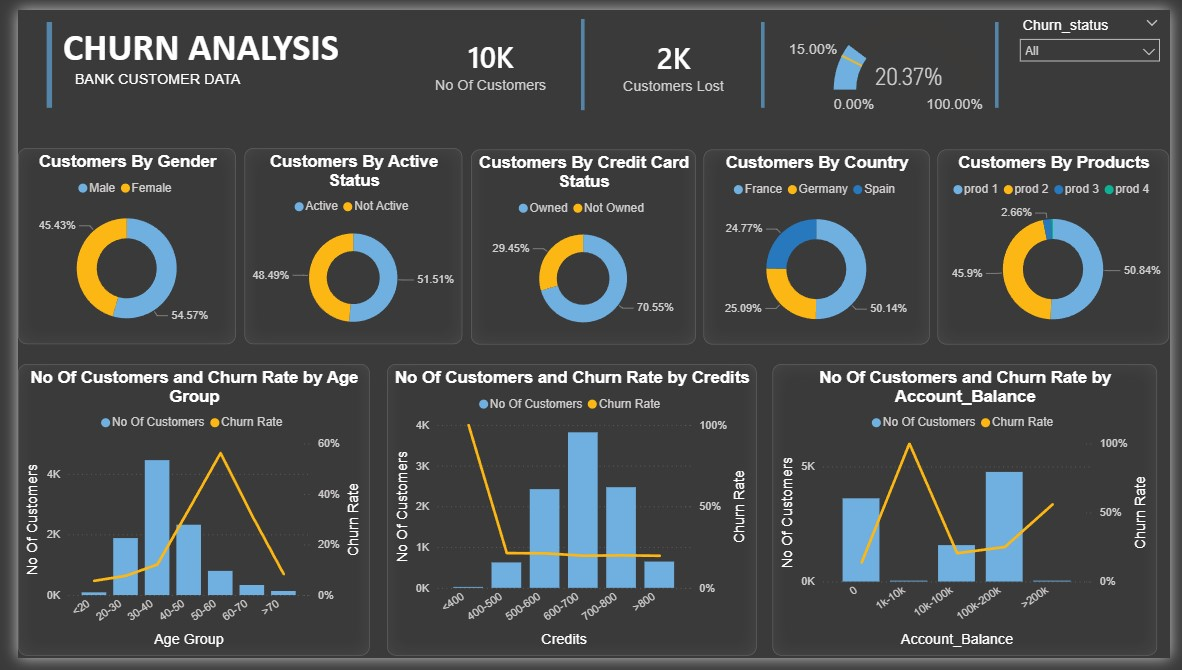

Layout of this report page (visuals, bound fields, positions):
{"tool":"powerbi","page":{"name":"Page 1","canvas":[1280,720],"ordinal":0},"visuals":[{"type":"cardVisual","fields":{"Data":["Customer Data.Customers Lost"]},"box":[628.4,1.5,198.4,119.6],"z":0},{"type":"donutChart","title":"Customers By Gender","fields":{"Y":["CountNonNull(Customer Data.customer_id)"],"Category":["Customer Data.gender"]},"box":[0,152.9,242.3,218],"z":1000},{"type":"donutChart","title":"Customers By Active Status","fields":{"Y":["CountNonNull(Customer Data.customer_id)"],"Category":["Customer Data.Activity_status"]},"box":[251.4,152.9,242.3,218],"z":2000},{"type":"donutChart","title":"Customers By Credit Card Status","fields":{"Y":["CountNonNull(Customer Data.customer_id)"],"Category":["Customer Data.credit_card"]},"box":[502.7,154.4,249.8,216.5],"z":3000},{"type":"donutChart","title":"Customers By Country","fields":{"Y":["CountNonNull(Customer Data.customer_id)"],"Category":["Customer Data.country"]},"box":[761.6,154.4,251.4,216.5],"z":4000},{"type":"donutChart","title":"Customers By Products","fields":{"Y":["CountNonNull(Customer Data.customer_id)"],"Category":["Customer Data.Products"]},"box":[1022.1,154.4,257.4,216.5],"z":5000},{"type":"lineStackedColumnComboChart","fields":{"Y2":["Customer Data.Churn Rate"],"Y":["Customer Data.customers"],"Category":["Age Groups.Age Group"]},"box":[0,393.7,390.7,324],"z":6000},{"type":"lineStackedColumnComboChart","fields":{"Y2":["Customer Data.Churn Rate"],"Y":["Customer Data.customers"],"Category":["Credit Score.Credits"]},"box":[409.6,393.7,410.3,324],"z":7000},{"type":"lineStackedColumnComboChart","fields":{"Y":["Customer Data.customers"],"Category":["Account Balance Groups.Account_Balance"],"Y2":["Customer Data.Churn Rate"]},"box":[838.9,393.7,427,324],"z":8000},{"type":"slicer","fields":{"Values":["Customer Data.Churn_status"]},"box":[1103.9,1.5,175.6,119.6],"z":9000},{"type":"cardVisual","fields":{"Data":["Customer Data.No Of Customers"]},"box":[422.5,0,205.9,121.1],"z":10000},{"type":"gauge","fields":{"MinValue":["Min(Customer Data.Min Churnrate)"],"MaxValue":["Max(Customer Data.Max Churnrate)"],"Y":["Customer Data.Churn Rate"],"TargetValue":["Min(Customer Data.Target Churnrate)"]},"box":[820.7,0,286.2,121.1],"z":11000},{"type":"textbox","box":[45.4,10.6,372.5,68.1],"z":12000},{"type":"shape","box":[578.4,10.6,98.4,101.5],"z":13000},{"type":"shape","box":[778.3,13.6,98.4,95.4],"z":14000},{"type":"shape","box":[1038.7,13.6,98.4,95.4],"z":15000},{"type":"shape","box":[0,13.6,69.7,95.4],"z":16000},{"type":"textbox","box":[59.1,62.1,299.8,40.9],"z":17000}]}

Visuals, with their boxes in screenshot pixels (x1, y1, x2, y2), scaled from the page's 1280x720 canvas onto the 1182x670 screenshot:
cardVisual - Customer Data.Customers Lost: select_region(580, 1, 763, 113)
"Customers By Gender" donutChart: select_region(0, 142, 224, 345)
"Customers By Active Status" donutChart: select_region(232, 142, 456, 345)
"Customers By Credit Card Status" donutChart: select_region(464, 144, 695, 345)
"Customers By Country" donutChart: select_region(703, 144, 935, 345)
"Customers By Products" donutChart: select_region(944, 144, 1181, 345)
lineStackedColumnComboChart - Customer Data.Churn Rate x Customer Data.customers: select_region(0, 366, 361, 668)
lineStackedColumnComboChart - Customer Data.Churn Rate x Customer Data.customers: select_region(378, 366, 757, 668)
lineStackedColumnComboChart - Customer Data.customers x Account Balance Groups.Account_Balance: select_region(775, 366, 1169, 668)
slicer - Customer Data.Churn_status: select_region(1019, 1, 1181, 113)
cardVisual - Customer Data.No Of Customers: select_region(390, 0, 580, 113)
gauge - Min(Customer Data.Min Churnrate) x Max(Customer Data.Max Churnrate): select_region(758, 0, 1022, 113)
textbox: select_region(42, 10, 386, 73)
shape: select_region(534, 10, 625, 104)
shape: select_region(719, 13, 810, 101)
shape: select_region(959, 13, 1050, 101)
shape: select_region(0, 13, 64, 101)
textbox: select_region(55, 58, 331, 96)
